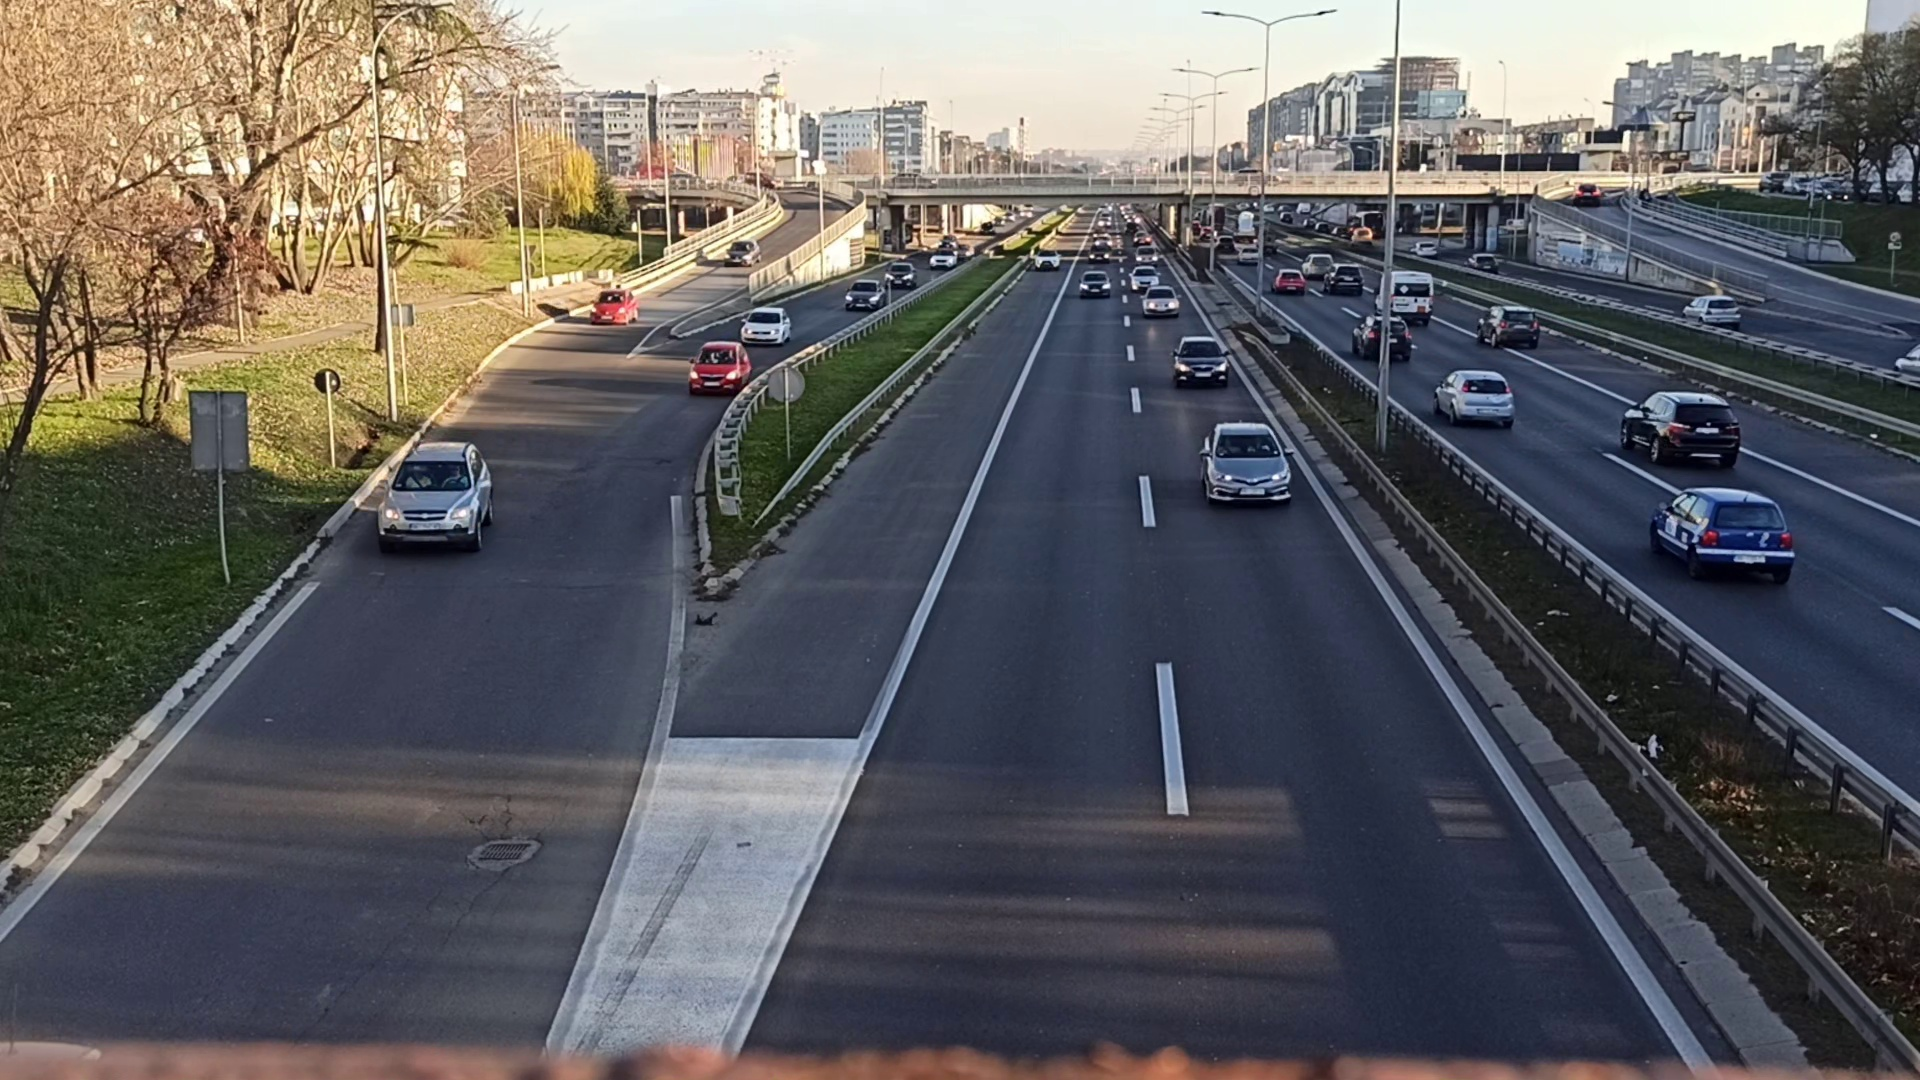car: (1646, 489, 1801, 579), (378, 438, 495, 547), (1615, 382, 1739, 469), (1203, 417, 1292, 512), (1431, 363, 1515, 433), (690, 335, 749, 394), (1178, 332, 1232, 390), (738, 309, 791, 352), (591, 286, 637, 330), (844, 284, 880, 315)
